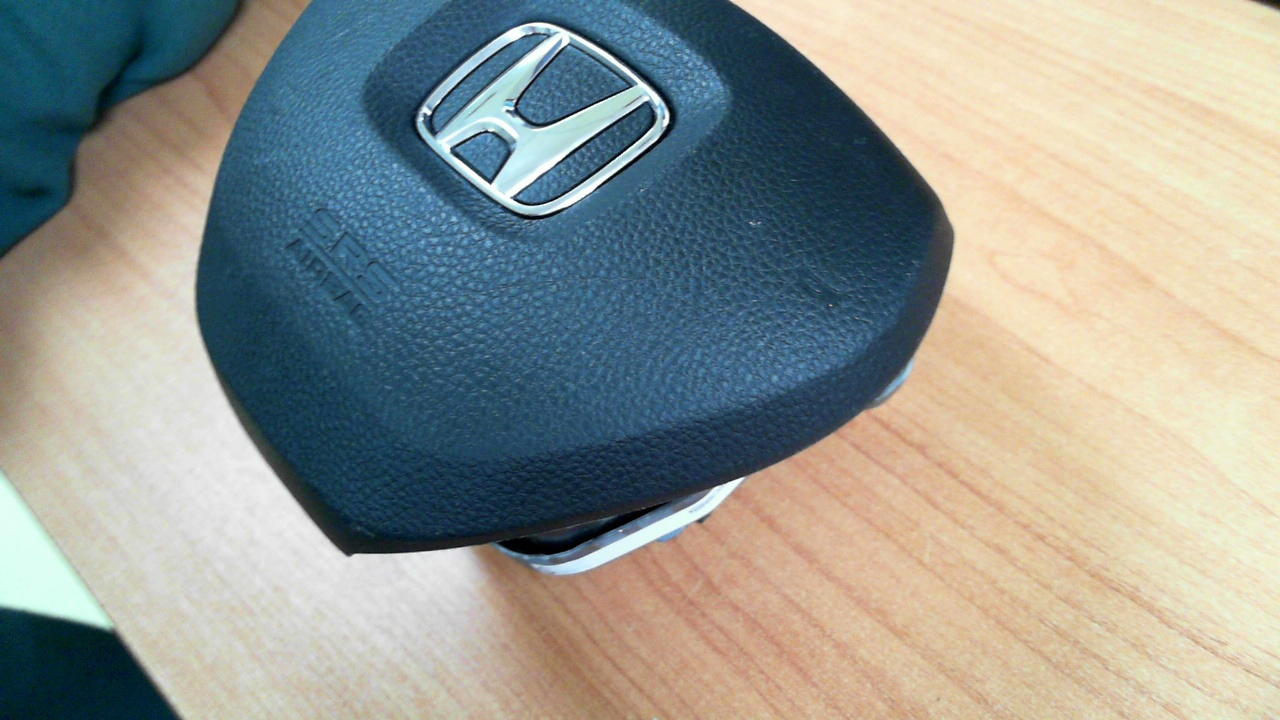Airbag: (194, 8, 955, 577)
Honda: (396, 13, 687, 222)
